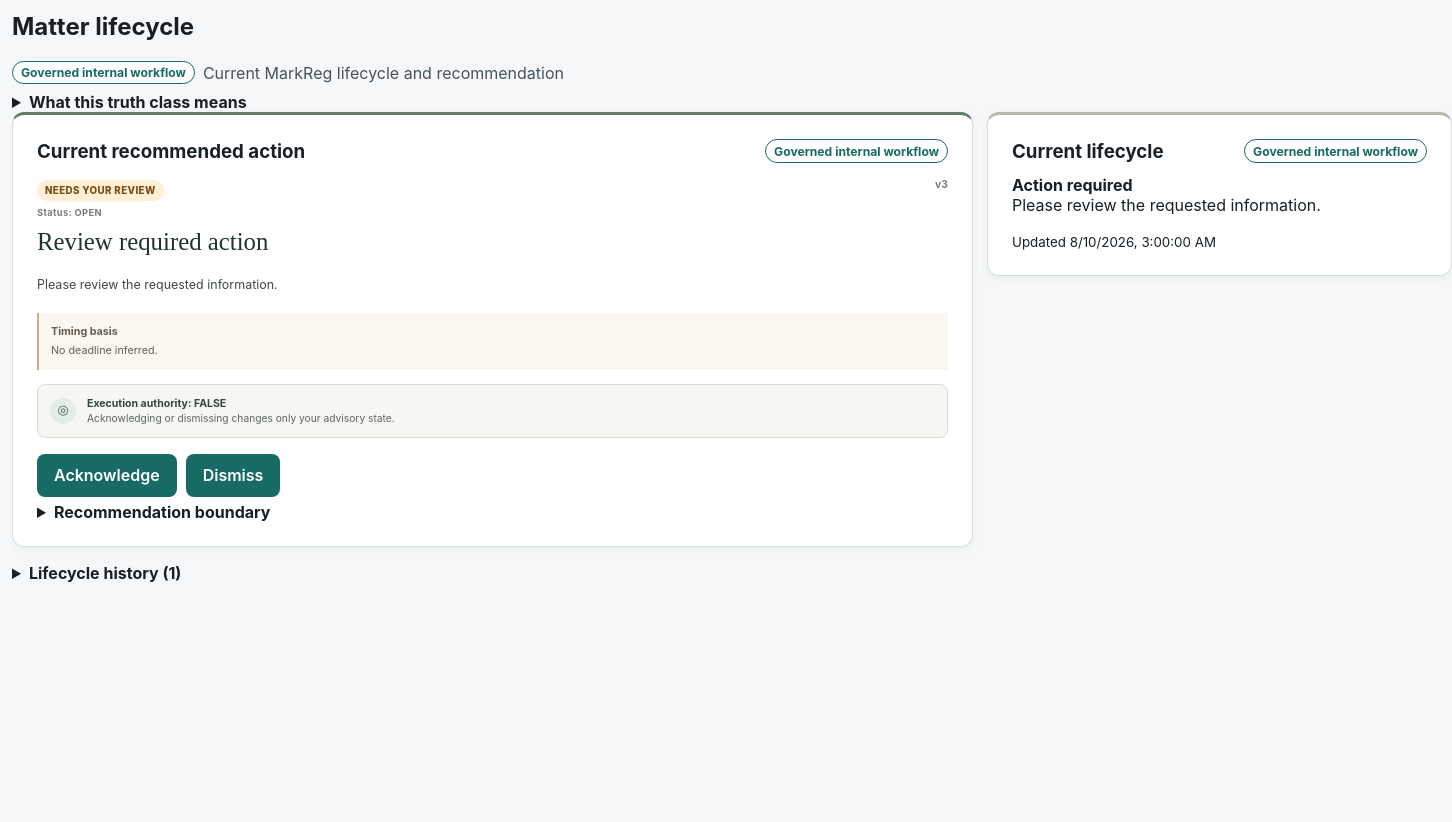
Test: M5-WP-06 customer lifecycle panel › acknowledges the exact recommendation version and reloads without executing it
This screenshot has width=1452, height=822.
Click the button "Acknowledge".
click(107, 475)  # box [37,454,177,496]
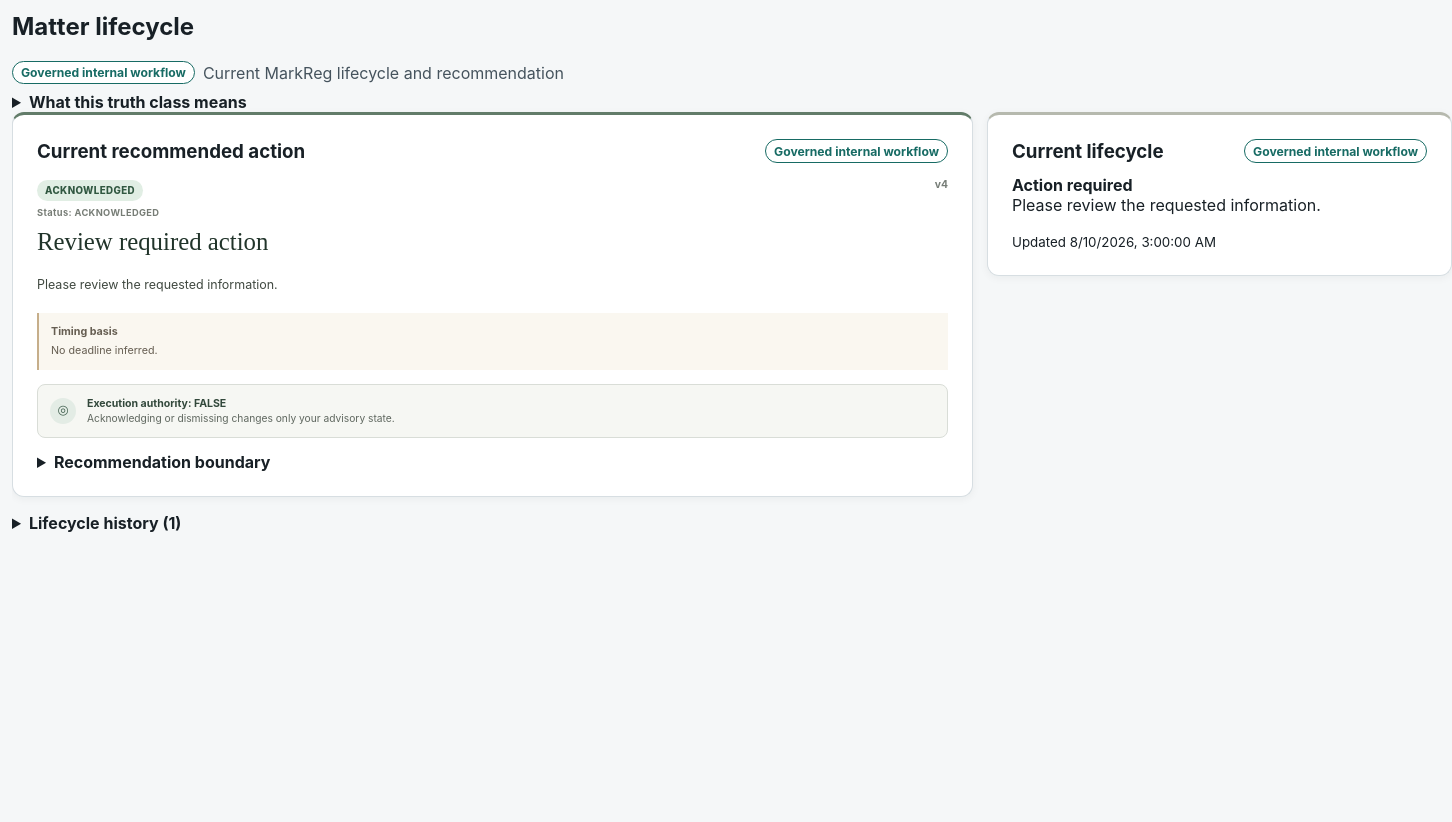
Expected: the text "Status: ACKNOWLEDGED" is shown, [37,207,159,218]
